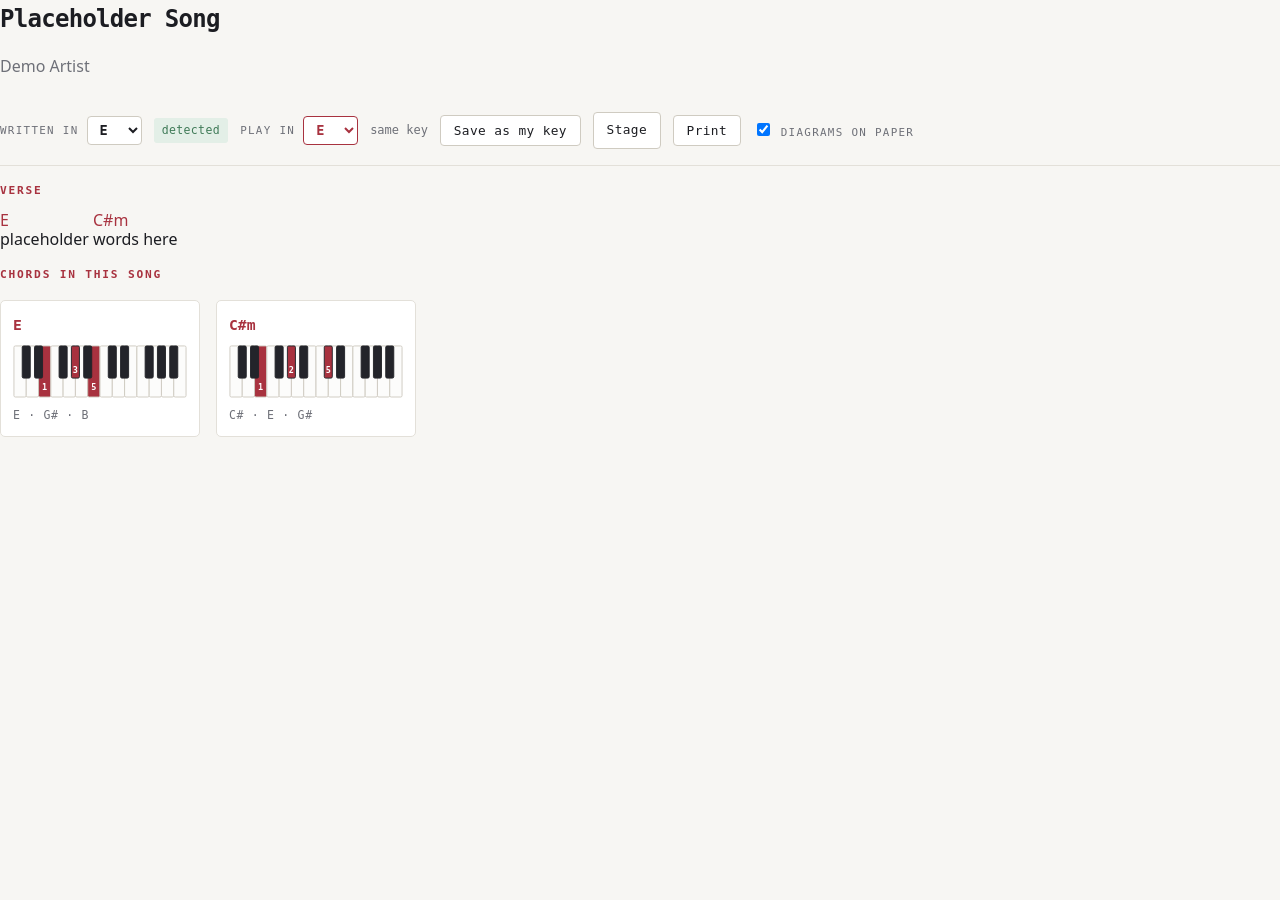
Test: SongPage editing › opens the editor when a chord is clicked
This screenshot has width=1280, height=900.
Check: the heading "Placeholder Song" is shown, box [0, 5, 220, 33]
Step 1. Click the button "E" → {"x": 46, "y": 218}, box [0, 208, 93, 229]
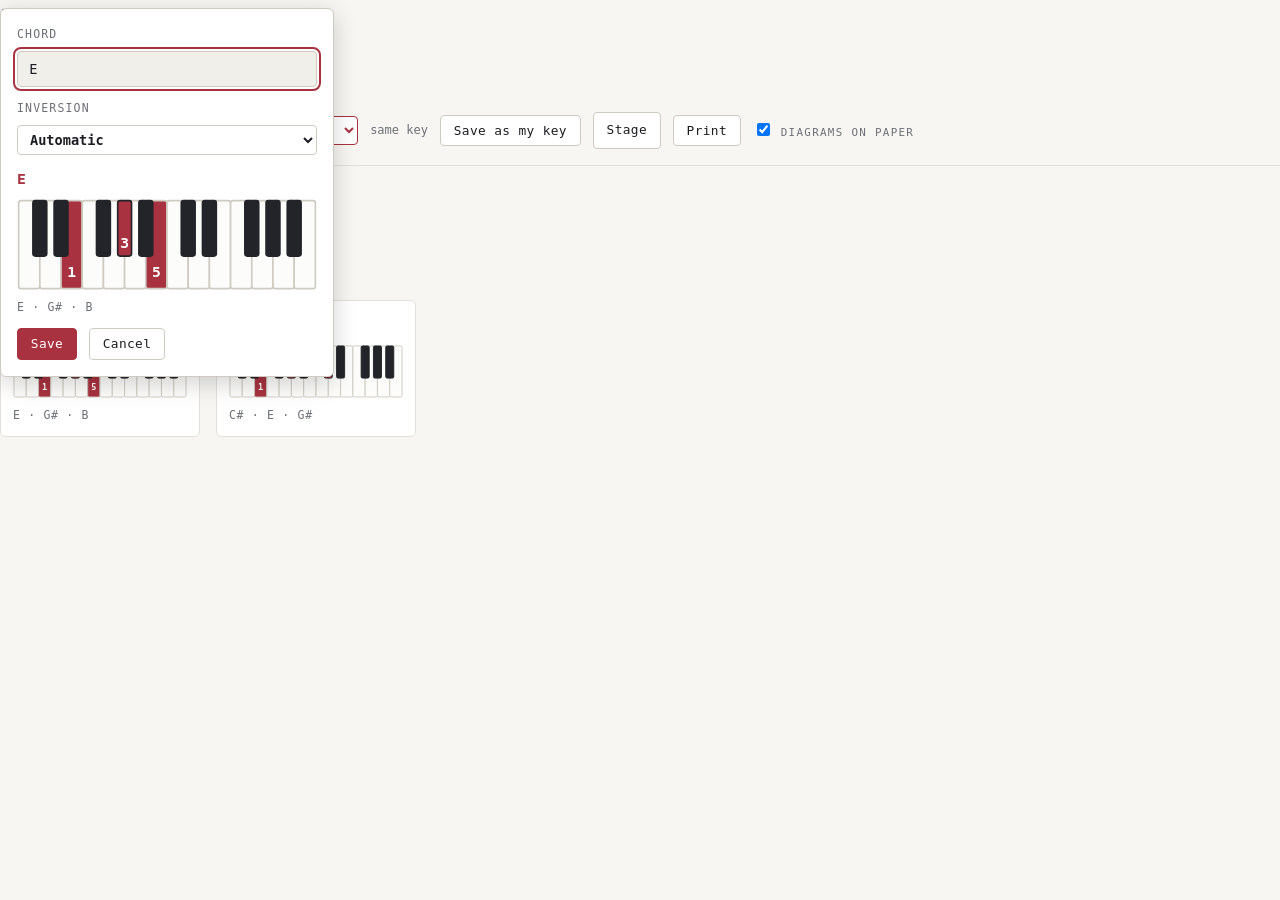
Check: the dialog is shown, box [0, 8, 334, 377]
